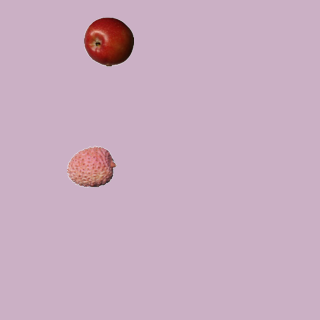Apple Braeburn: (83, 16, 133, 66)
Lychee: (66, 141, 116, 191)
